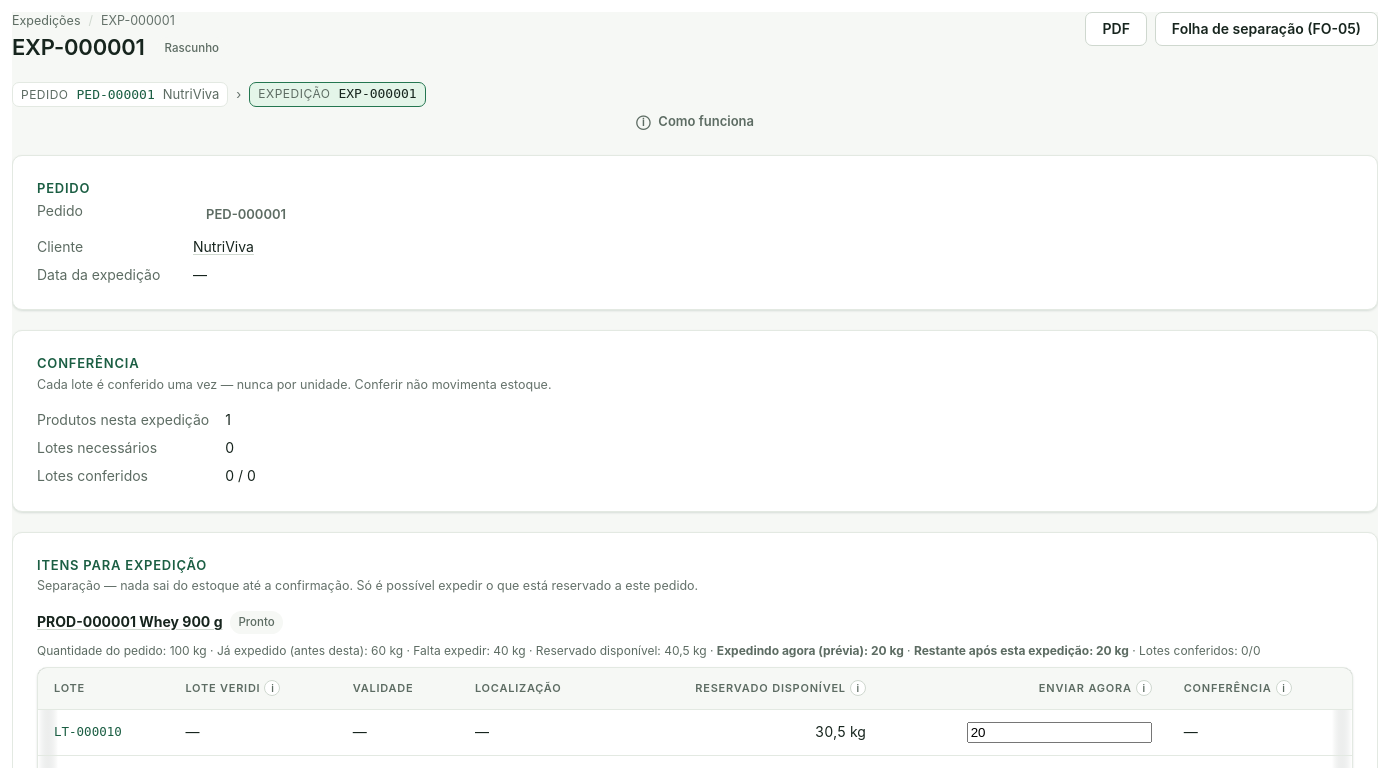
Expedição — prévia por produto › I. toda quantidade passa pelo formatador: vírgula, nunca string crua
Expected: the heading "EXP-000001" is shown, [12, 34, 145, 62]
Expected: the text "30,5 kg" is shown, [615, 710, 882, 756]
Replace the text in the field named "Quantidade do lote LT-000010" with "12,5" at [1059, 732], box [967, 722, 1152, 743]
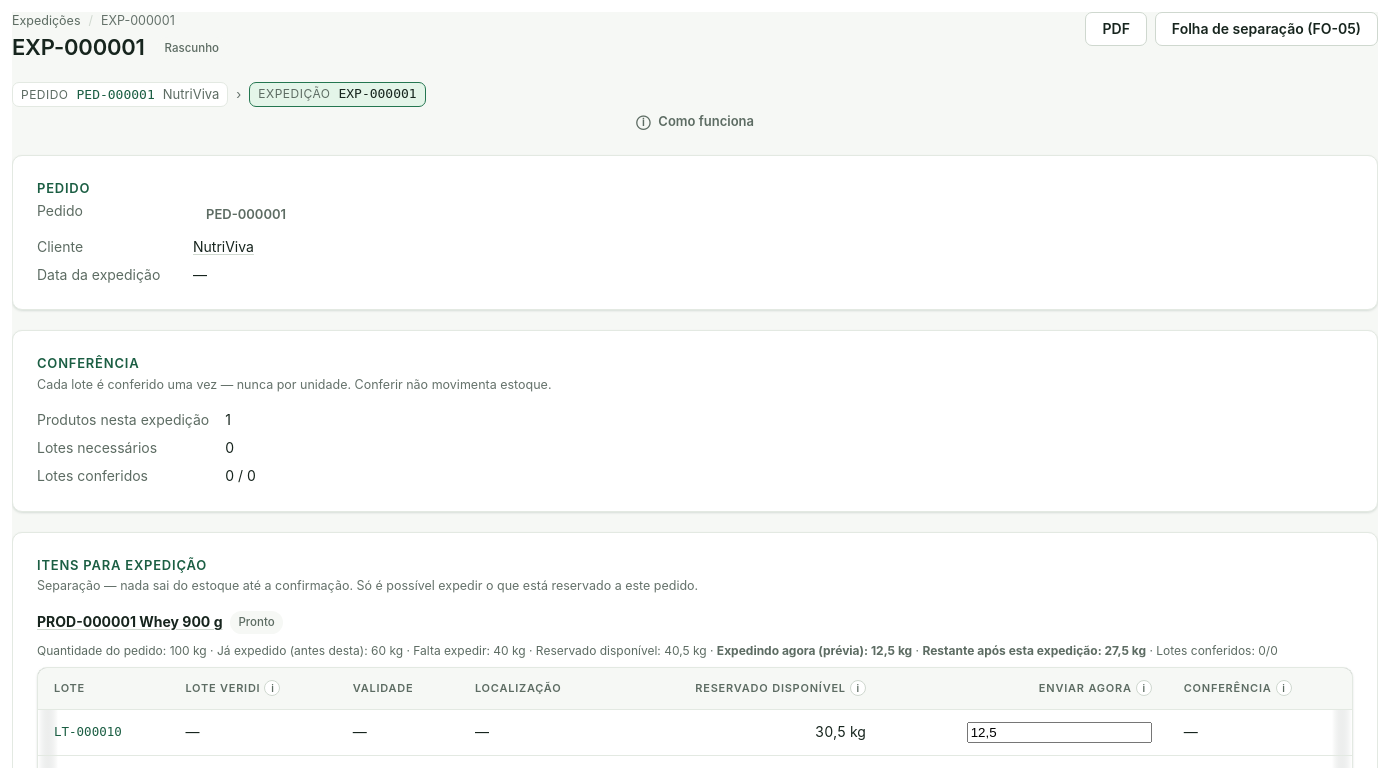
Expected: the element with class "shipment-product__meta" shows "Expedindo agora (prévia): 12,5 kg", [37, 642, 1353, 659]
Expected: the element with class "shipment-product__meta" shows "Restante após esta expedição: 27,5 kg", [37, 642, 1353, 659]
